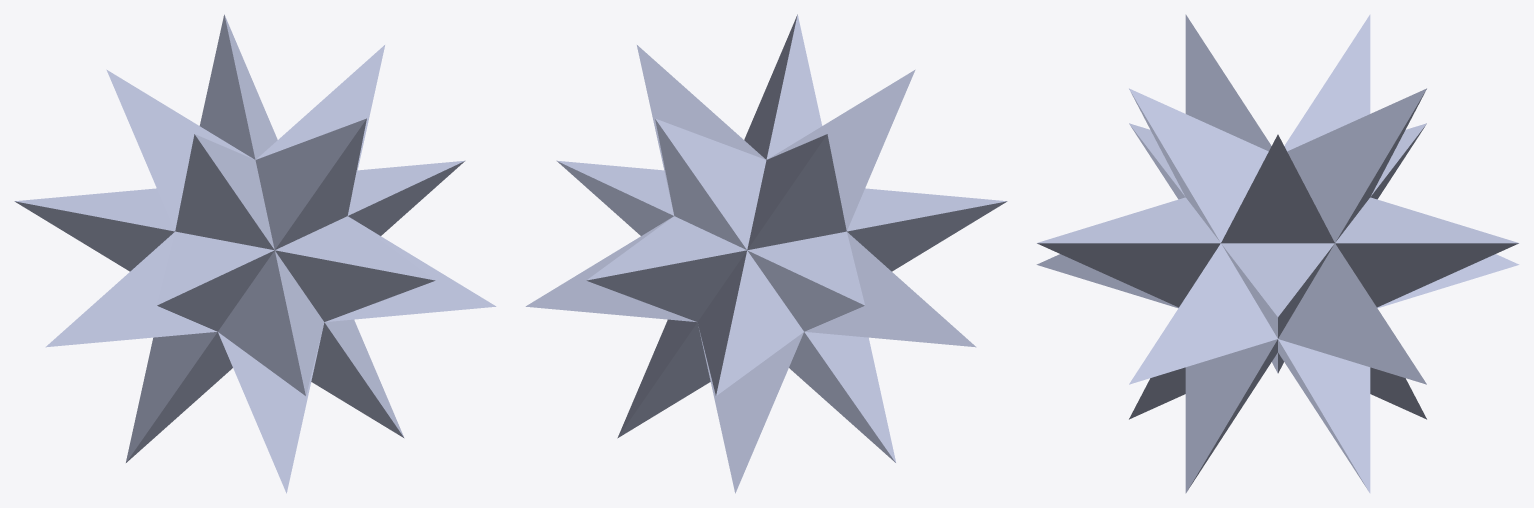
The model's file is Great Stellated Dodecahedron.FBX.
3 views of the same model, side by side, from view 1: azimuth 30°, elevation 25°; view 2: azimuth 150°, elevation 25°; view 3: azimuth 270°, elevation 25° (orthographic). The views are drawn at different scales.
Parts seen in each view (by area): view 1: Great Stellated Dodecahedron; view 2: Great Stellated Dodecahedron; view 3: Great Stellated Dodecahedron.
Boxes of the visible parts, bbox=[...] form: Great Stellated Dodecahedron: bbox=[14, 14, 496, 493]; Great Stellated Dodecahedron: bbox=[525, 14, 1007, 493]; Great Stellated Dodecahedron: bbox=[1036, 14, 1519, 493].
Size of the model in its own units: 45.91 by 37.14 by 43.66.
